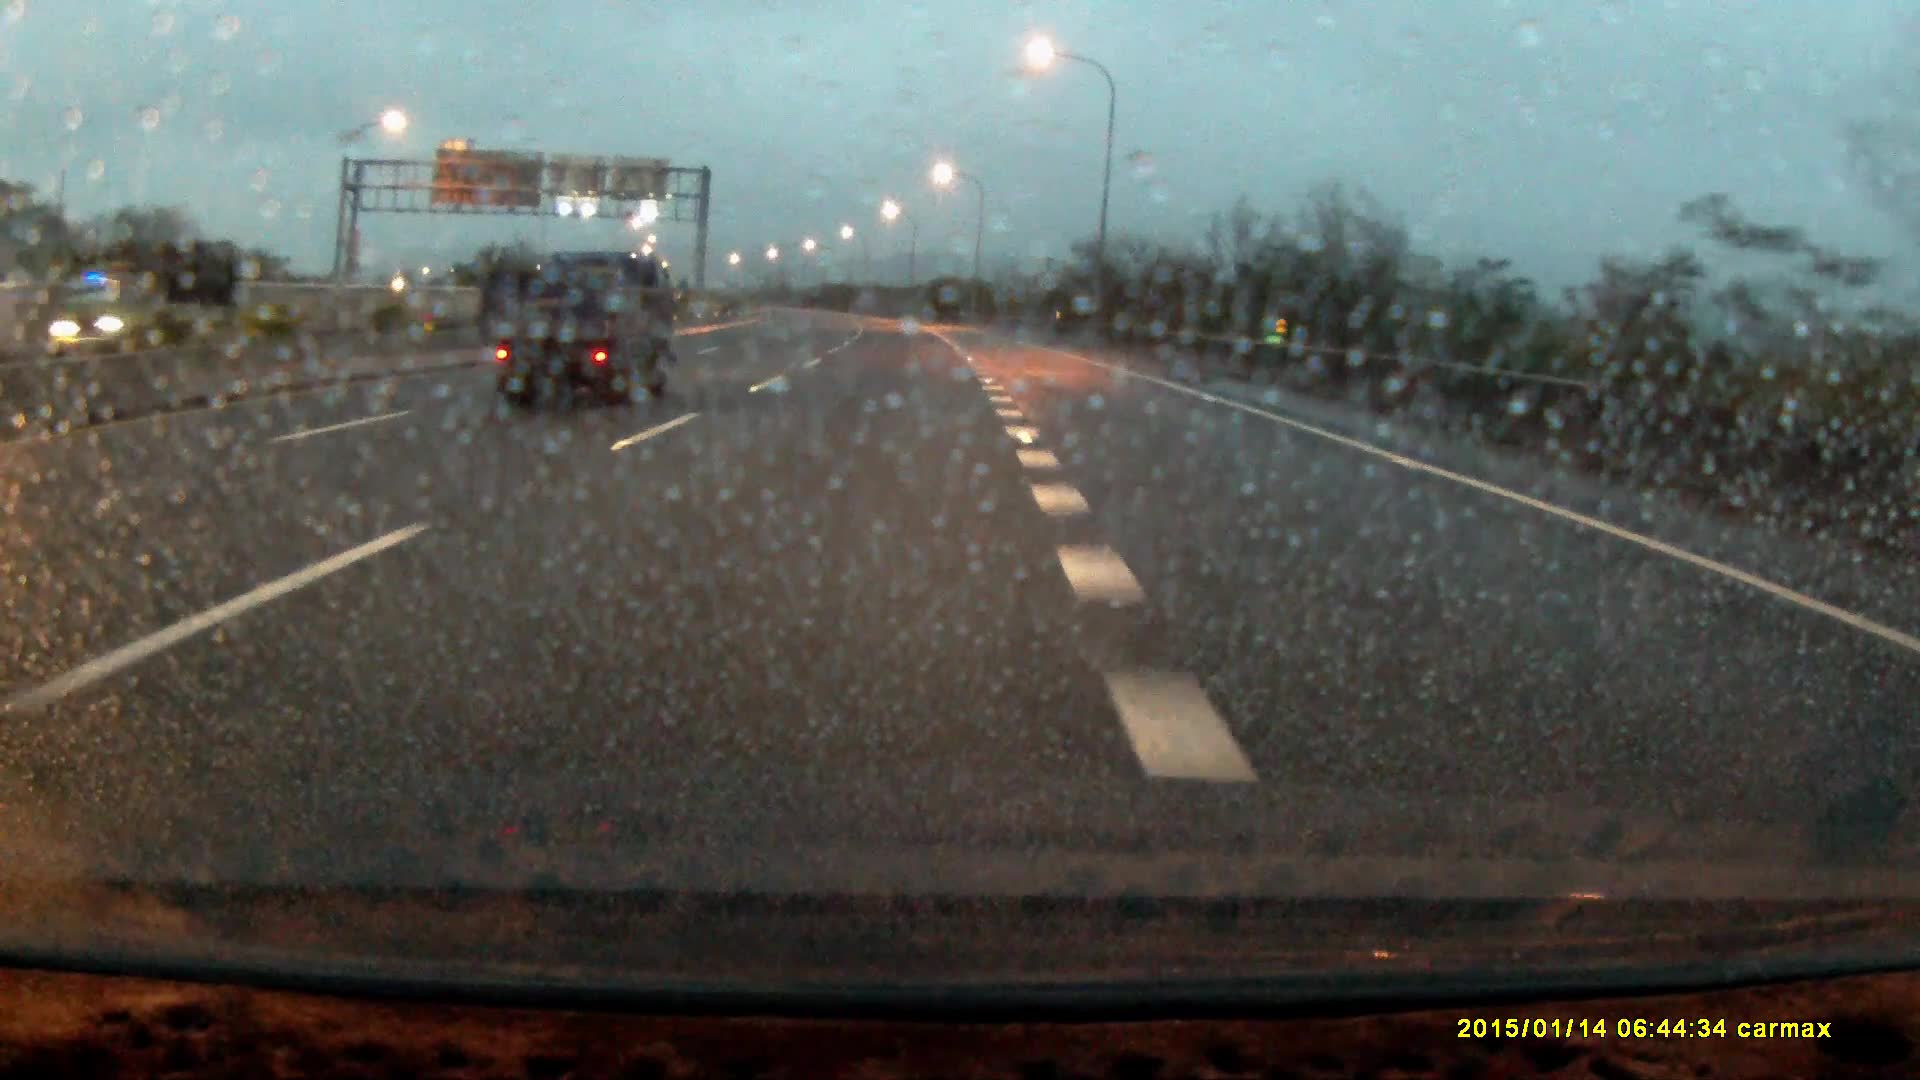vehicle: (480, 251, 679, 410), (66, 236, 240, 338)
